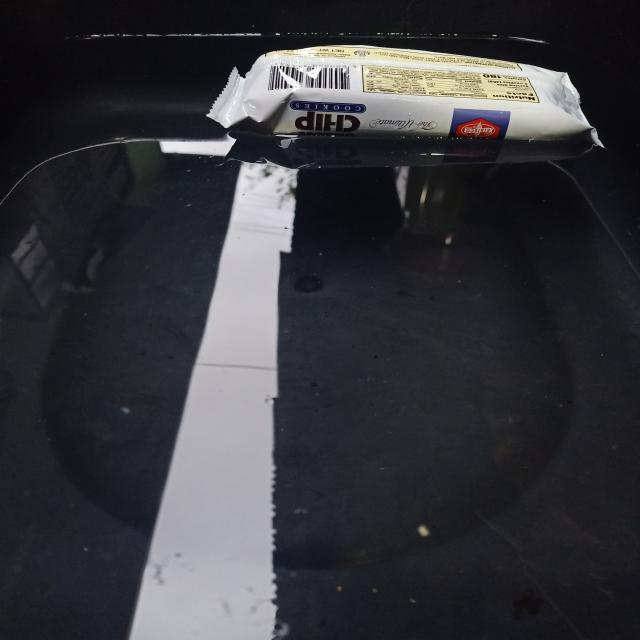Plastic Wrapper: (173, 40, 616, 168)
